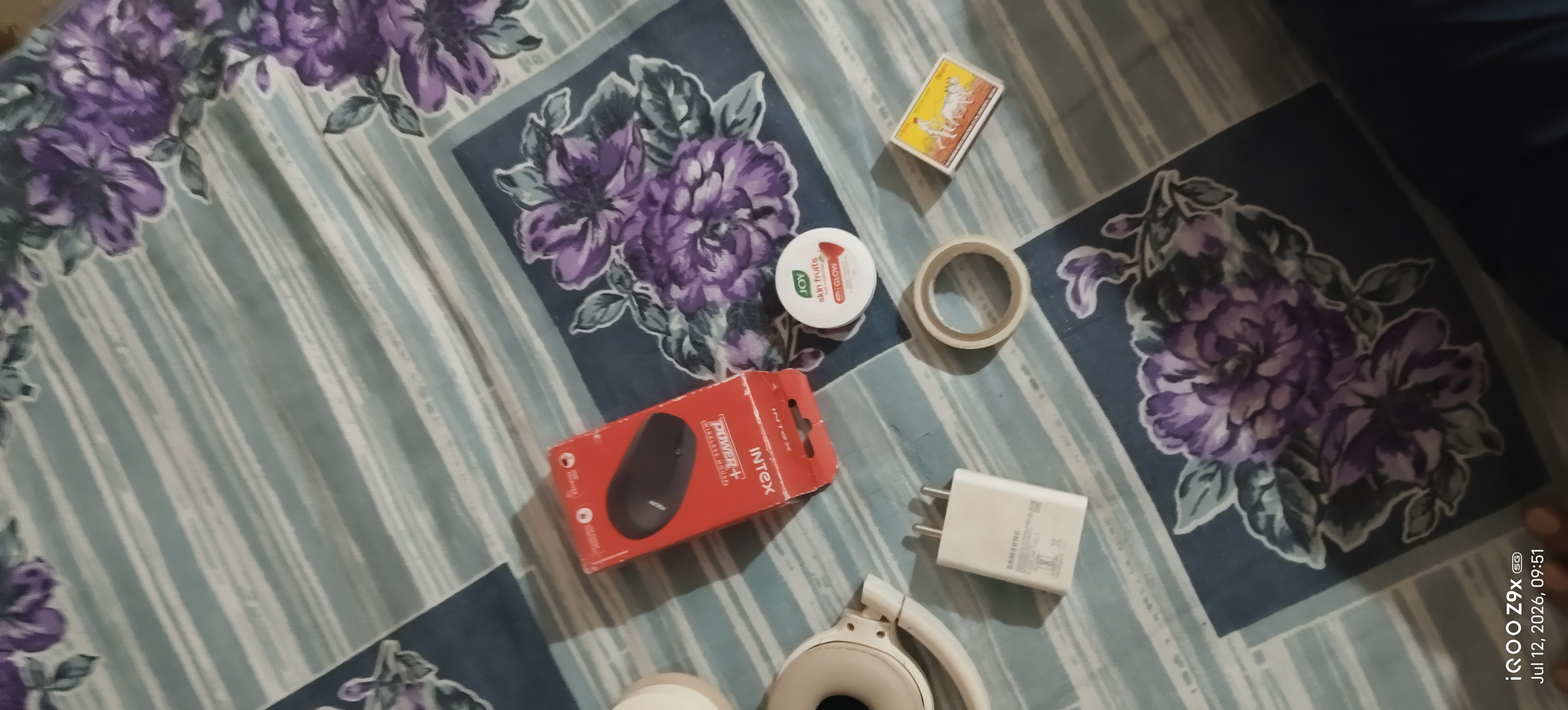charger: (908, 448, 1099, 609)
matchbox: (880, 43, 1018, 192)
tape_roll: (906, 229, 1043, 360)
